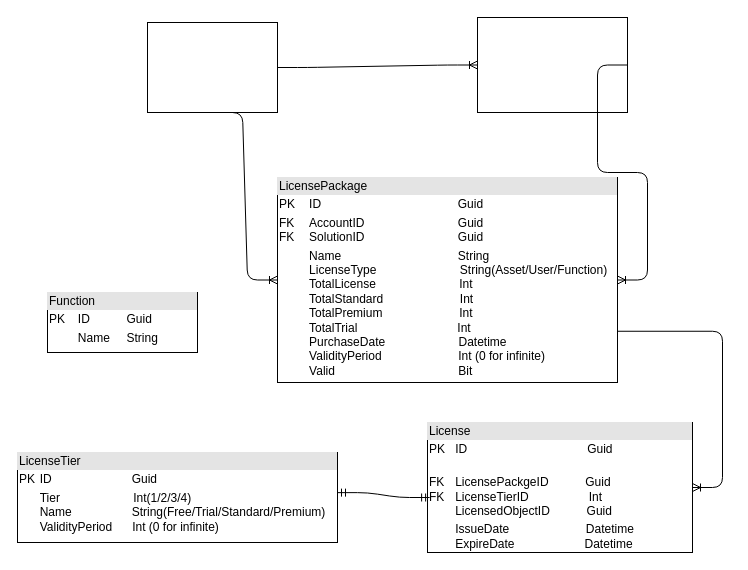
The diagram is 748 pixels wide and 570 high, and some of its shapes have lost their labels. Here are the shapes that lost their labels. From the top down, the box of each, then its label:
(146, 22, 278, 112): Account PK ID Guid ...
(476, 16, 628, 112): Solution PK ID Guid FK AccountID Guid ...
